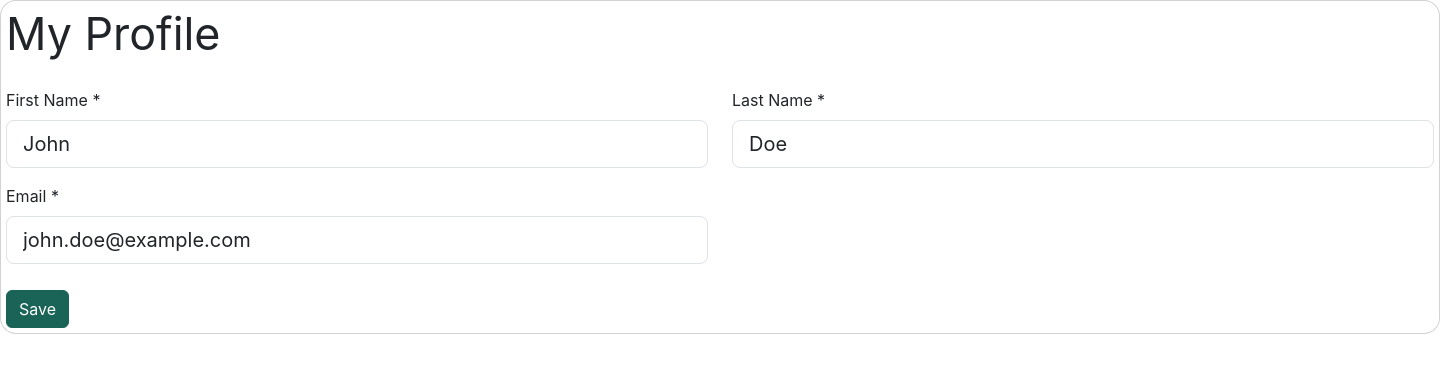
Test: EditAccountInfo Component › validates input fields and enables the Save button
This screenshot has width=1440, height=376.
Replace the text in the field with placeholder "Email" below "Email" with "invalid-email" at (357, 240), box [6,216,708,264]
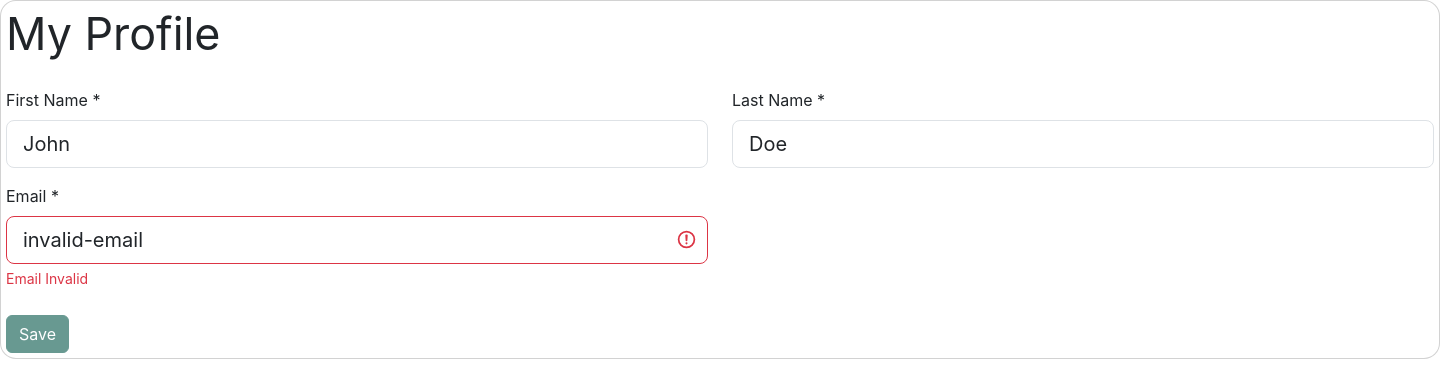
Expected: the button "Save" is disabled, [6,315,69,353]
Replace the text in the 3rd field with placeholder "Email" with "valid.email@example.com" at (357, 240), box [6,216,708,264]
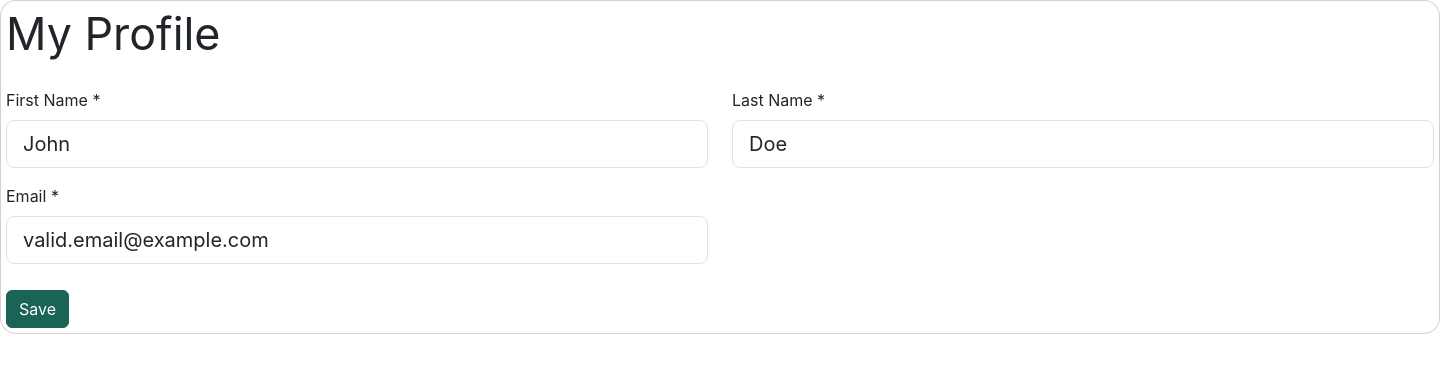
Expected: the button "Save" is enabled, [6,290,69,328]
